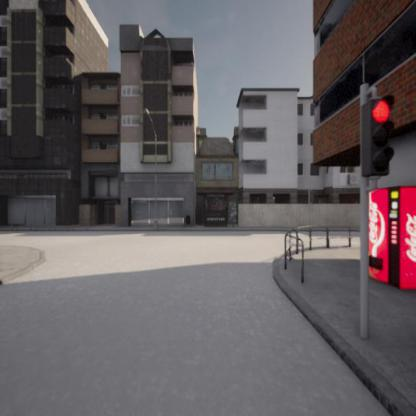traffic_light_red: (365, 94, 396, 177)
